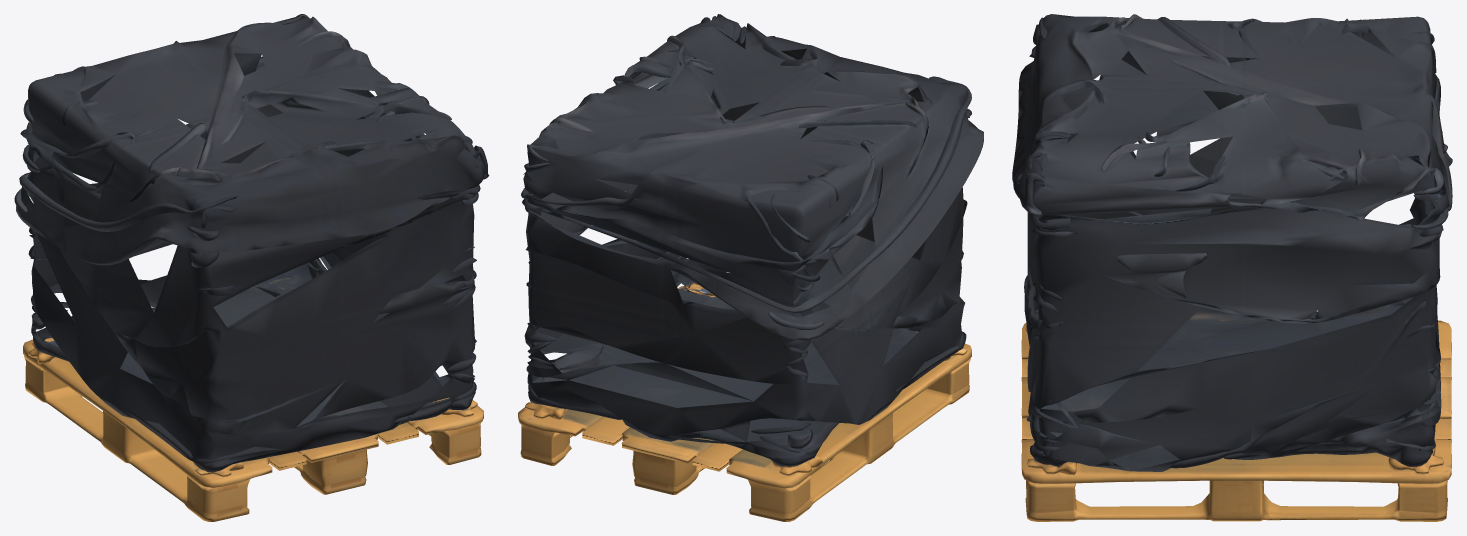
Rendered from paleta-folija.glb.
3 renders of one model, left to right at view 1: azimuth 30°, elevation 25°; view 2: azimuth 150°, elevation 25°; view 3: azimuth 270°, elevation 25°, orthographic. The views are drawn at different scales.
Parts seen in each view (by area): view 1: tripo_node_bea836bc-91b2-4643-8f05-ec3e6aaf992d; view 2: tripo_node_bea836bc-91b2-4643-8f05-ec3e6aaf992d; view 3: tripo_node_bea836bc-91b2-4643-8f05-ec3e6aaf992d.
Boxes of the visible parts, <box> form: tripo_node_bea836bc-91b2-4643-8f05-ec3e6aaf992d: <box>14,14,489,521</box>; tripo_node_bea836bc-91b2-4643-8f05-ec3e6aaf992d: <box>518,14,983,521</box>; tripo_node_bea836bc-91b2-4643-8f05-ec3e6aaf992d: <box>1012,14,1452,521</box>.
Size of the model in its own units: 0.9653 by 0.9136 by 0.9995.
Materials: 1 (1 with a texture image).
